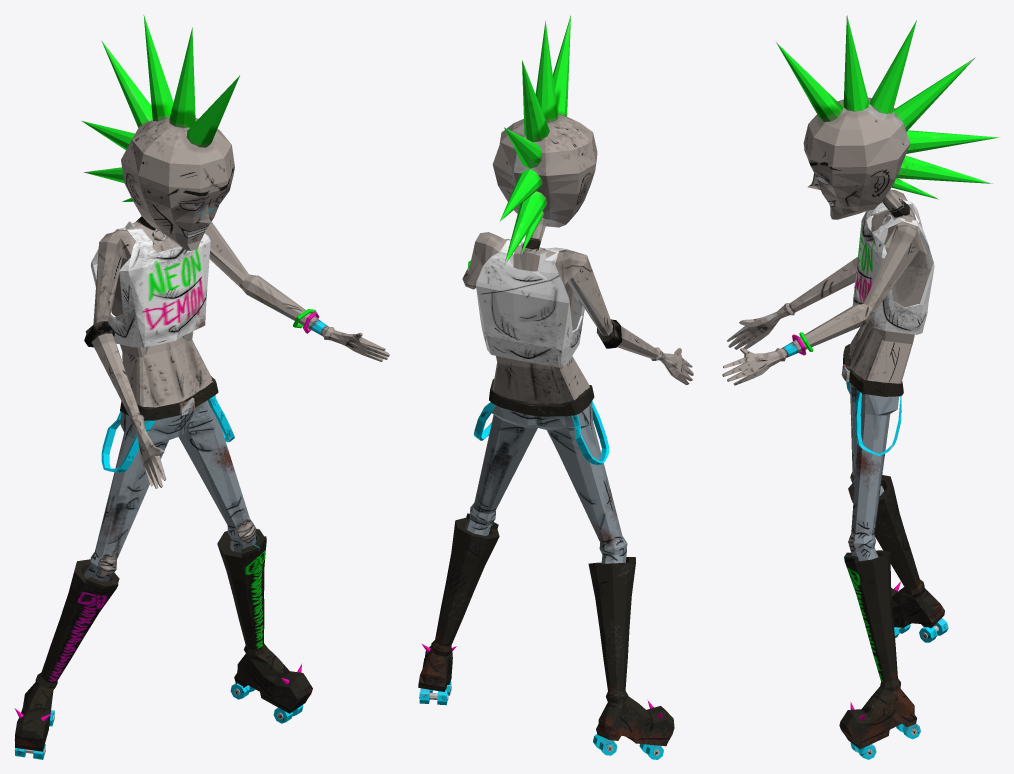
Rendered from punkAnimation_000123.obj.
3 renders of one model, left to right at view 1: azimuth 30°, elevation 25°; view 2: azimuth 150°, elevation 25°; view 3: azimuth 270°, elevation 25°, orthographic. The views are drawn at different scales.
Parts seen in each view (by area): view 1: Cube.004_Cube.003; view 2: Cube.004_Cube.003; view 3: Cube.004_Cube.003.
Boxes of the visible parts, box(x1,y1,x2,y2) form: Cube.004_Cube.003: box(14, 14, 389, 759); Cube.004_Cube.003: box(418, 15, 693, 759); Cube.004_Cube.003: box(722, 15, 999, 759).
Bounding box in the file's own units: 3.14 × 7.51 × 2.73.
